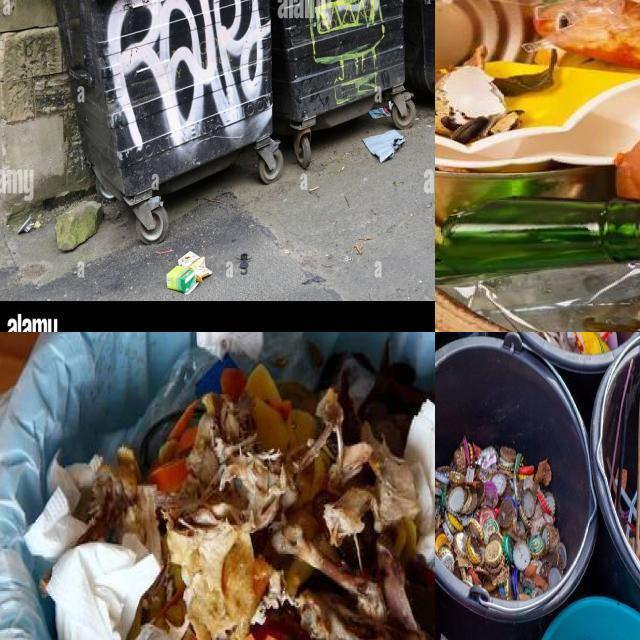Garbage: (30, 332, 435, 640), (435, 0, 640, 332), (435, 437, 568, 600), (596, 336, 640, 563)
Glass_bottle: (435, 197, 640, 277)
Metal: (435, 437, 566, 600)
Plastic_Straw: (610, 359, 634, 489), (616, 392, 629, 515), (625, 491, 637, 540)
Plastic_wraper: (574, 332, 608, 354)
contaminated_waste: (25, 487, 161, 640), (439, 264, 640, 332), (46, 540, 161, 640), (129, 348, 218, 448), (435, 0, 532, 66), (405, 403, 435, 561), (259, 332, 320, 389), (197, 332, 264, 361), (47, 453, 80, 510), (225, 354, 257, 374)
